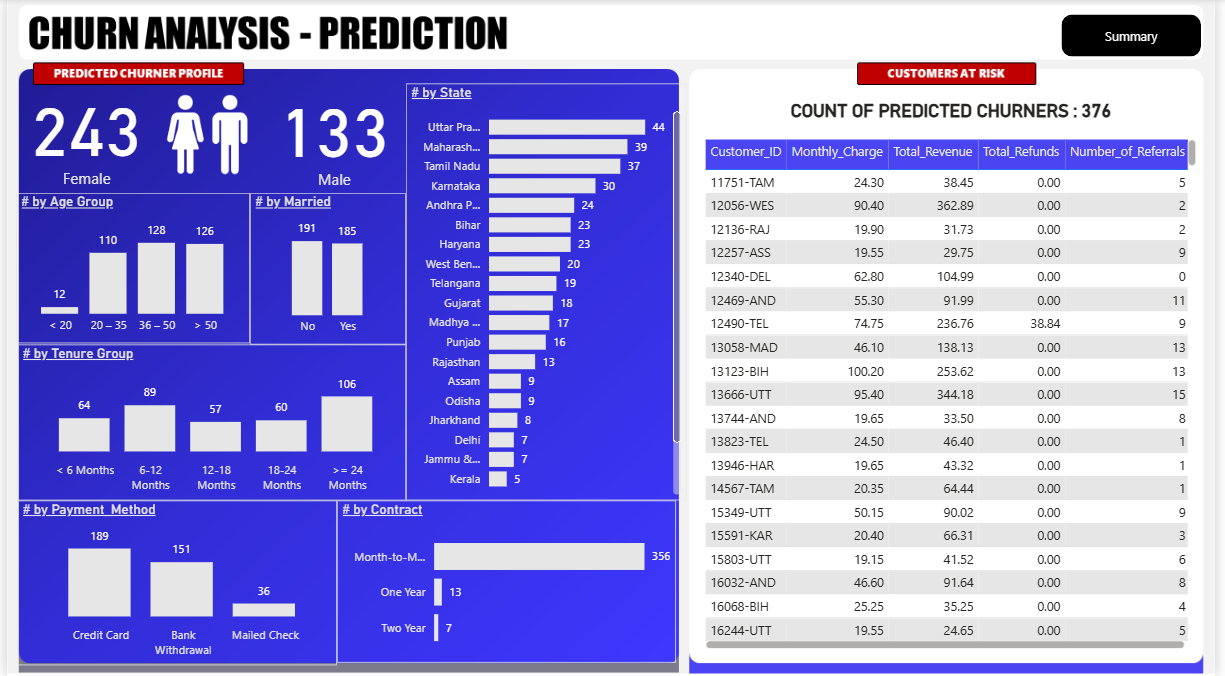

The page's visual inventory and layout, read from the dashboard file:
{"tool":"powerbi","page":{"name":"Churn Prediction","canvas":[1280,720],"ordinal":2},"visuals":[{"type":"tableEx","fields":{"Values":["Predictions.Customer_ID","Predictions.Monthly_Charge","Predictions.Total_Revenue","Predictions.Total_Refunds","Predictions.Number_of_Referrals"]},"box":[734.9,144.7,531.3,550.4],"z":0},{"type":"card","fields":{"Values":["tbl_Measures.Title Predicted Churner"]},"box":[757.7,90.1,486.7,57.3],"z":1000},{"type":"card","fields":{"Values":["tbl_Measures.Count Predicted Chruner"]},"box":[0,62,168.6,160.7],"z":2000},{"type":"card","fields":{"Values":["tbl_Measures.Count Predicted Chruner"]},"box":[257.7,68.4,178.1,149.5],"z":3000},{"type":"clusteredColumnChart","fields":{"Category":["mappin_AgeGrp.Age Group"],"Y":["CountNonNull(Predictions.Customer_ID)"]},"box":[9.5,206.8,248.1,159.1],"z":4000},{"type":"clusteredColumnChart","fields":{"Category":["Predictions.Married"],"Y":["CountNonNull(Predictions.Customer_ID)"]},"box":[257.7,206.8,165.4,160.7],"z":5000},{"type":"clusteredColumnChart","fields":{"Y":["CountNonNull(Predictions.Customer_ID)"],"Category":["mapping_TenureGrp.Tenure Group"]},"box":[11.1,367.4,412,165.4],"z":6000},{"type":"clusteredColumnChart","fields":{"Y":["CountNonNull(Predictions.Customer_ID)"],"Category":["Predictions.Payment_Method"]},"box":[11.1,532.9,338.8,175],"z":7000},{"type":"clusteredBarChart","fields":{"Category":["Predictions.Contract"],"Y":["CountNonNull(Predictions.Customer_ID)"]},"box":[349.9,532.9,359.5,171.8],"z":8000},{"type":"clusteredBarChart","fields":{"Category":["Predictions.State"],"Y":["CountNonNull(Predictions.Customer_ID)"]},"box":[423.1,90.7,297.4,442.2],"z":9000},{"type":"image","box":[134.4,90.7,157.5,106.6],"z":10000},{"type":"shape","box":[1118.2,17.5,147.9,44.5],"z":11000}]}

Visuals, with their boxes in screenshot pixels (x1, y1, x2, y2), scaled from the page's 1280x720 canvas onto the 1225x676 screenshot:
tableEx - Predictions.Customer_ID x Predictions.Monthly_Charge: (703, 136, 1212, 653)
card - tbl_Measures.Title Predicted Churner: (725, 85, 1191, 138)
card - tbl_Measures.Count Predicted Chruner: (0, 58, 161, 209)
card - tbl_Measures.Count Predicted Chruner: (247, 64, 417, 205)
clusteredColumnChart - mappin_AgeGrp.Age Group x CountNonNull(Predictions.Customer_ID): (9, 194, 247, 344)
clusteredColumnChart - Predictions.Married x CountNonNull(Predictions.Customer_ID): (247, 194, 405, 345)
clusteredColumnChart - CountNonNull(Predictions.Customer_ID) x mapping_TenureGrp.Tenure Group: (11, 345, 405, 500)
clusteredColumnChart - CountNonNull(Predictions.Customer_ID) x Predictions.Payment_Method: (11, 500, 335, 665)
clusteredBarChart - Predictions.Contract x CountNonNull(Predictions.Customer_ID): (335, 500, 679, 662)
clusteredBarChart - Predictions.State x CountNonNull(Predictions.Customer_ID): (405, 85, 690, 500)
image: (129, 85, 279, 185)
shape: (1070, 16, 1212, 58)
